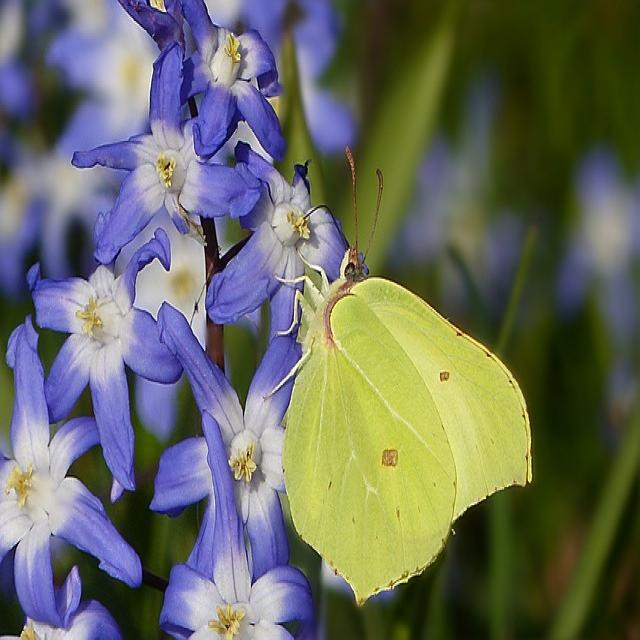butterfly: (248, 271, 533, 604)
